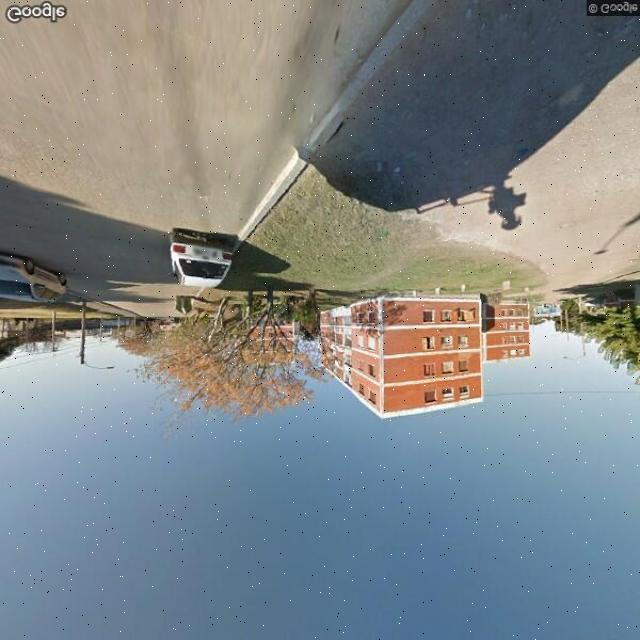garbage container: (173, 292, 198, 321)
